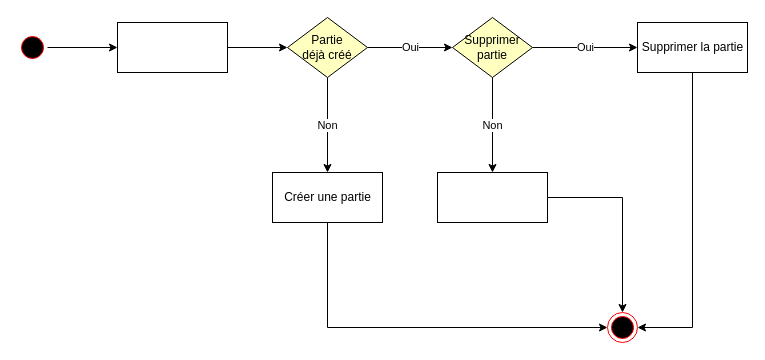
Image size: 765x360. Some labels were removed from this diagram. Each missing label, with the centre of its shape:
"Charger une partie" belongs at (x=492, y=197).
"Selectionner une partie" belongs at (x=172, y=47).
